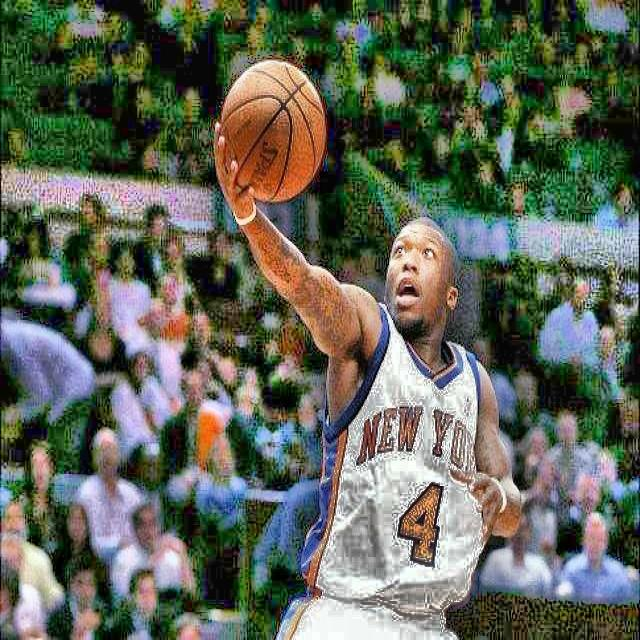board: (222, 58, 328, 203)
